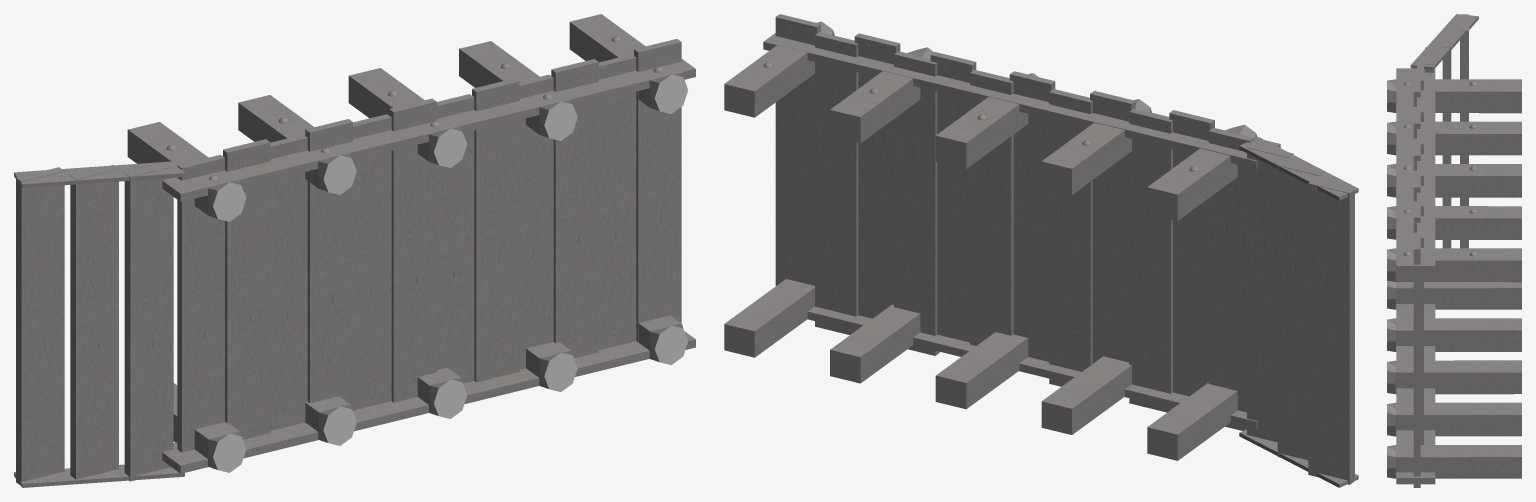
The model's file is Bridge.fbx.
3 views of the same model, side by side, from view 1: azimuth 30°, elevation 25°; view 2: azimuth 150°, elevation 25°; view 3: azimuth 270°, elevation 25° (orthographic). The views are drawn at different scales.
Visible parts, largest first — view 1: Sphere.007, Sphere.002; view 2: Sphere.007, Sphere.002; view 3: Sphere.007, Sphere.002.
Boxes of the visible parts, x1,y1,x2,y2 form: Sphere.007: (127,14,695,473); Sphere.002: (14,161,184,487); Sphere.007: (724,14,1280,460); Sphere.002: (1239,137,1358,487); Sphere.007: (1387,64,1521,487); Sphere.002: (1410,14,1478,248).
Size of the model in its own units: 747 by 351 by 175.
